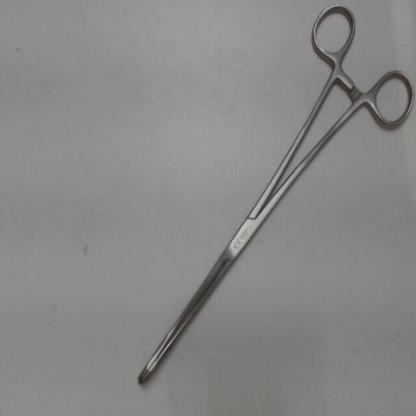Sponge Forceps: (128, 1, 414, 402)
